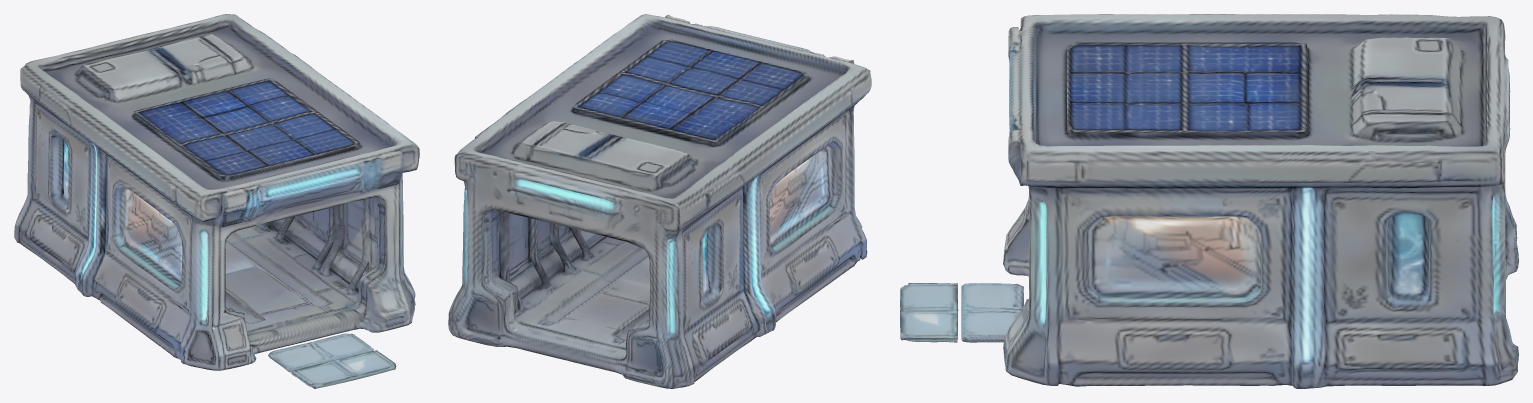
Rendered from basic_house.fbx.
3 renders of one model, left to right at view 1: azimuth 30°, elevation 25°; view 2: azimuth 150°, elevation 25°; view 3: azimuth 270°, elevation 25°, orthographic. The views are drawn at different scales.
Visible parts, largest first — view 1: model_LOD0; view 2: model_LOD0; view 3: model_LOD0.
Part boxes in pixels (x1,y1,x2,y2): model_LOD0: [14, 14, 419, 388]; model_LOD0: [448, 14, 871, 388]; model_LOD0: [900, 14, 1518, 388].
Size of what is drawn, in the model's own units: 114 by 80.08 by 189.
